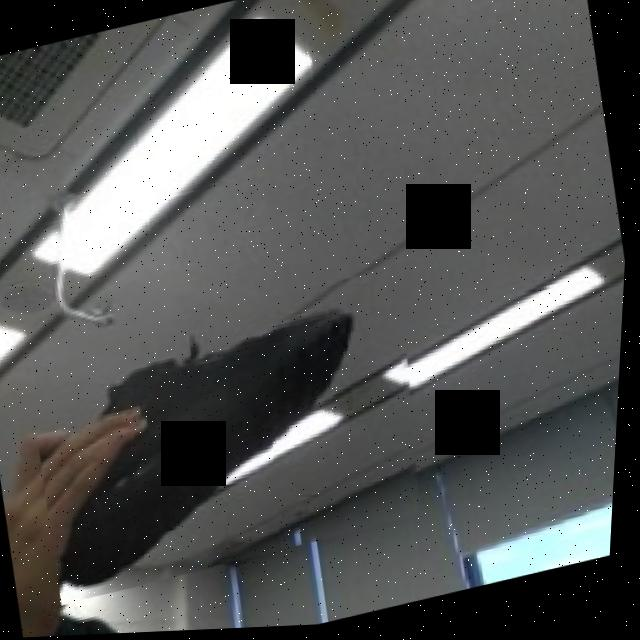shoe: (20, 268, 453, 608)
